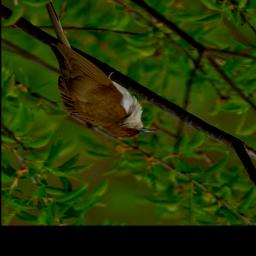Cuckoo: (42, 0, 157, 141)
